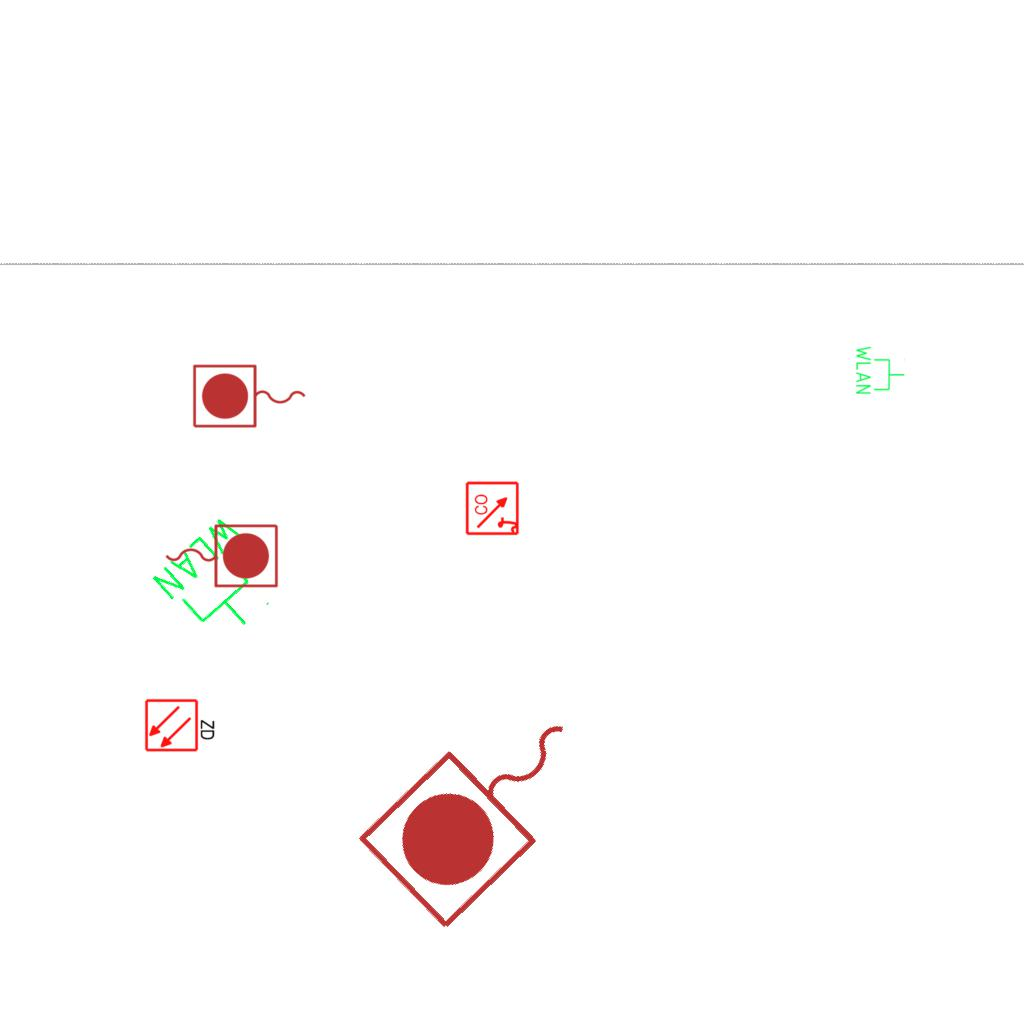ROA_Rauchmelder_optisch_mit_Signalgeber_(Sockelsirene): (465, 480, 521, 536)
WLAN: (146, 507, 294, 656), (854, 344, 906, 396)
ZD_Melder_in_Zwischendecke_mit_Revisionsoeffnung_mind_40_x_40_cm: (144, 696, 218, 753)
Zugtaster: (347, 669, 623, 943), (189, 361, 311, 433), (160, 519, 282, 591)
